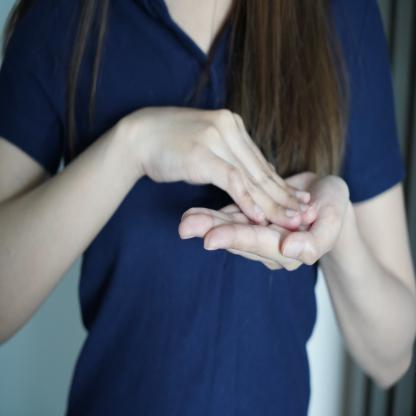Love: (89, 92, 374, 296)
